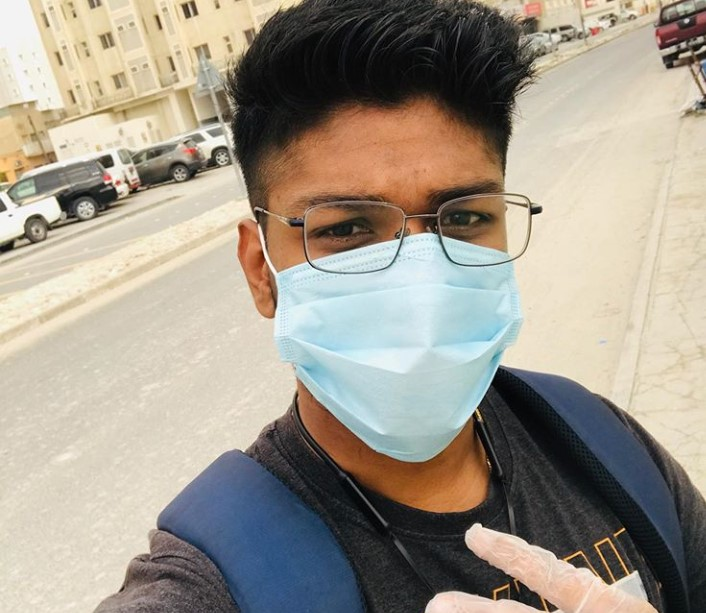face_with_mask: (233, 21, 549, 468)
